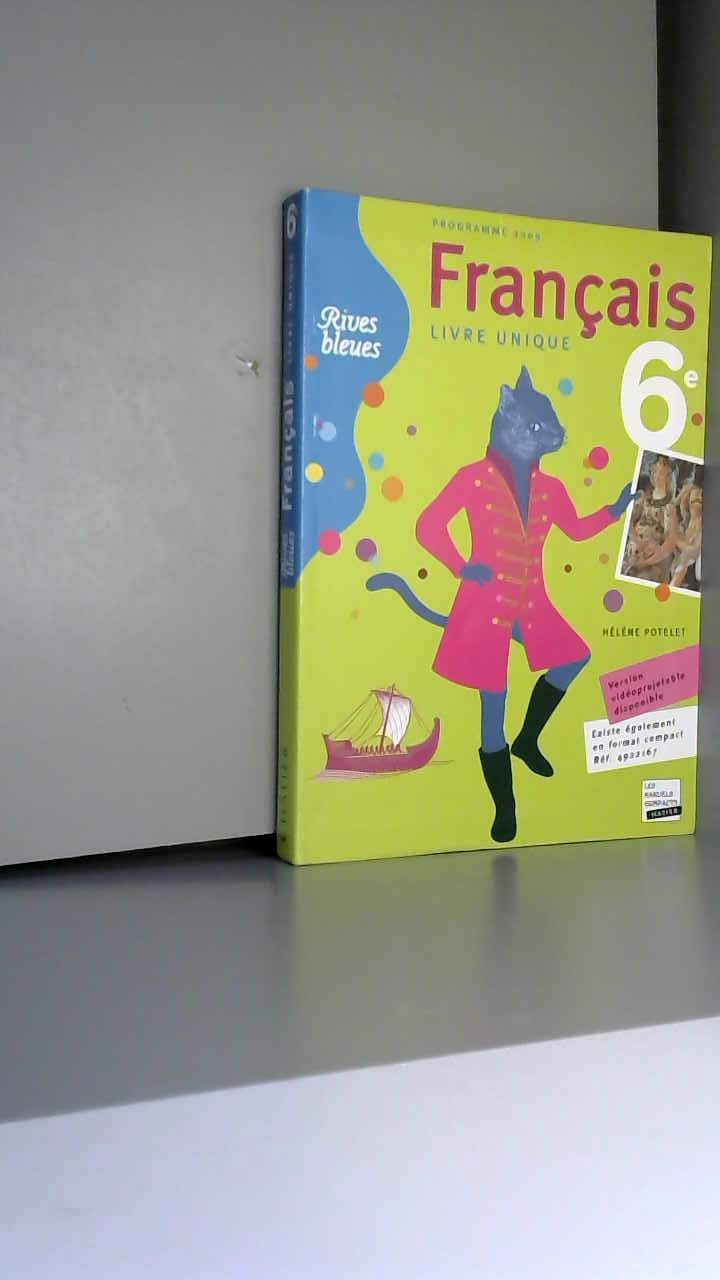book: (250, 160, 720, 938)
